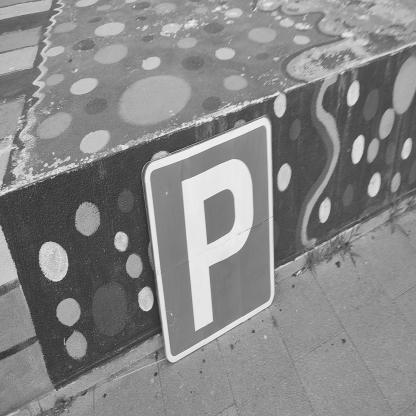Parking-Sign: (142, 117, 278, 369)
